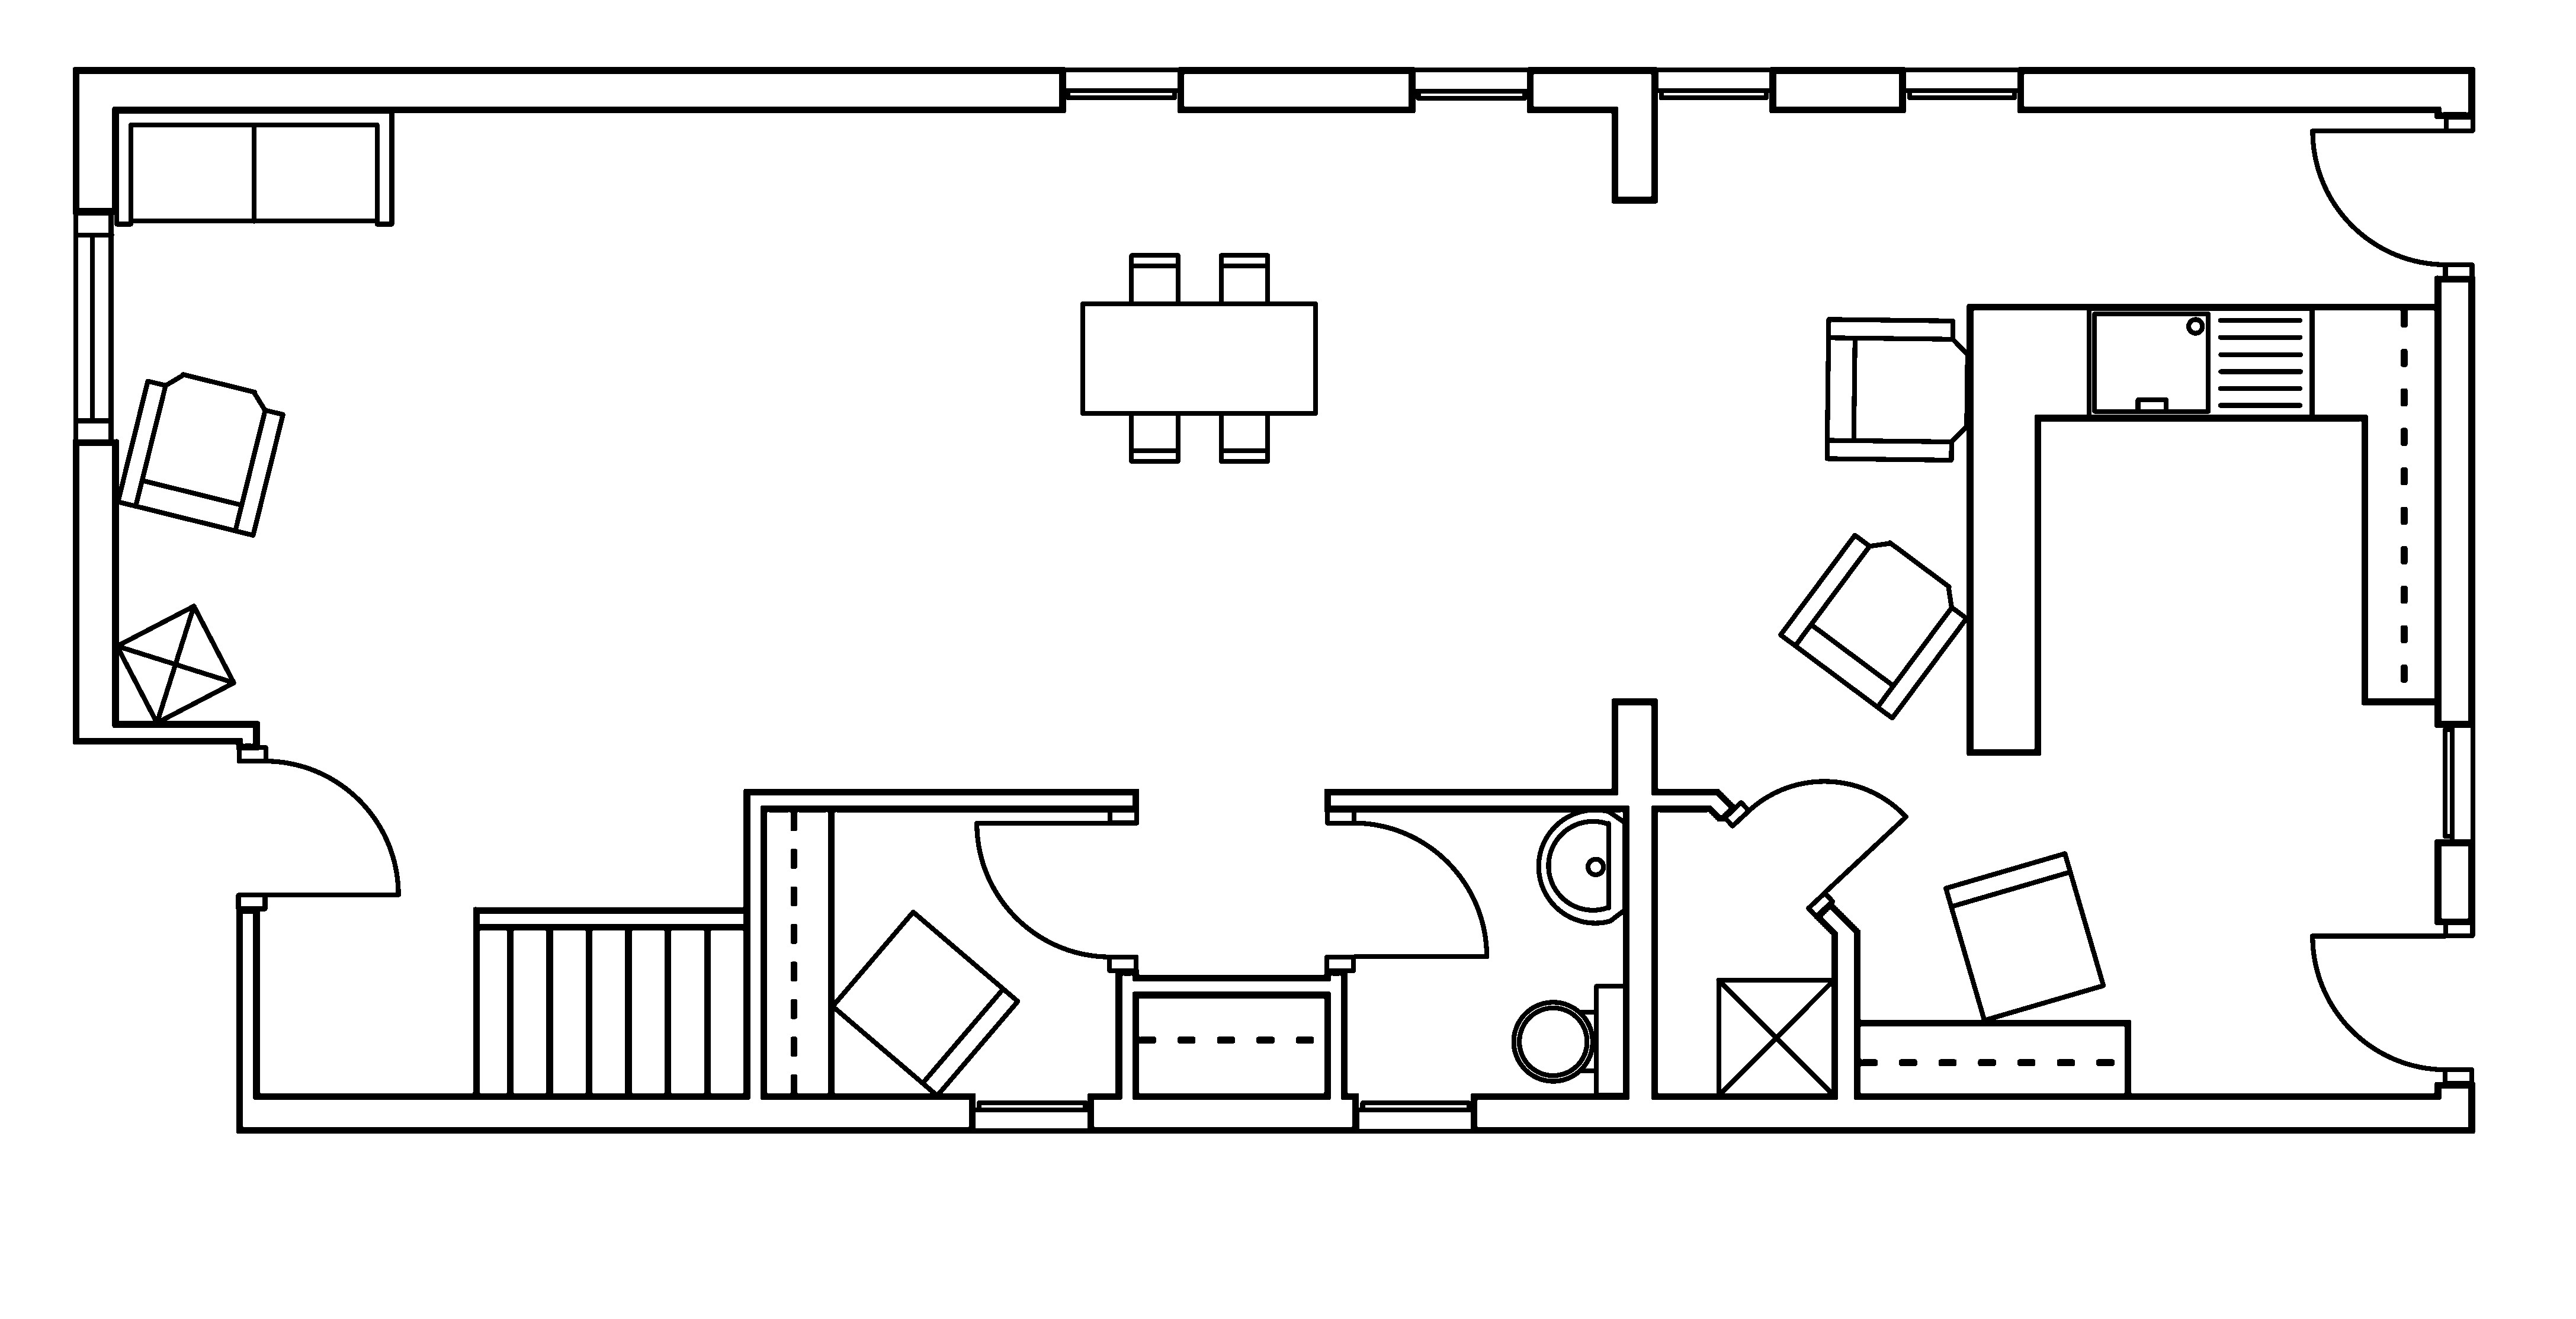armchair: (1777, 532, 1969, 720), (114, 370, 286, 538), (1823, 316, 1971, 463)
coffee_table: (113, 602, 237, 725), (1715, 976, 1836, 1099)
dining_table: (1079, 252, 1318, 464)
large_sink: (1512, 983, 1628, 1097)
large_sofa: (113, 108, 395, 227)
sink: (2085, 305, 2314, 421)
small_sink: (1535, 808, 1628, 925)
small_sofa: (829, 908, 1021, 1099), (1942, 850, 2105, 1023)
